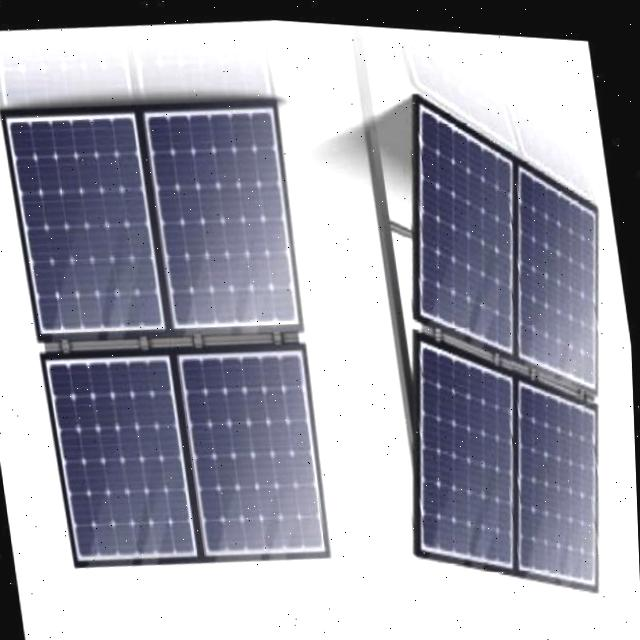Normal Solar Panel: (2, 80, 338, 582), (352, 70, 640, 600)
